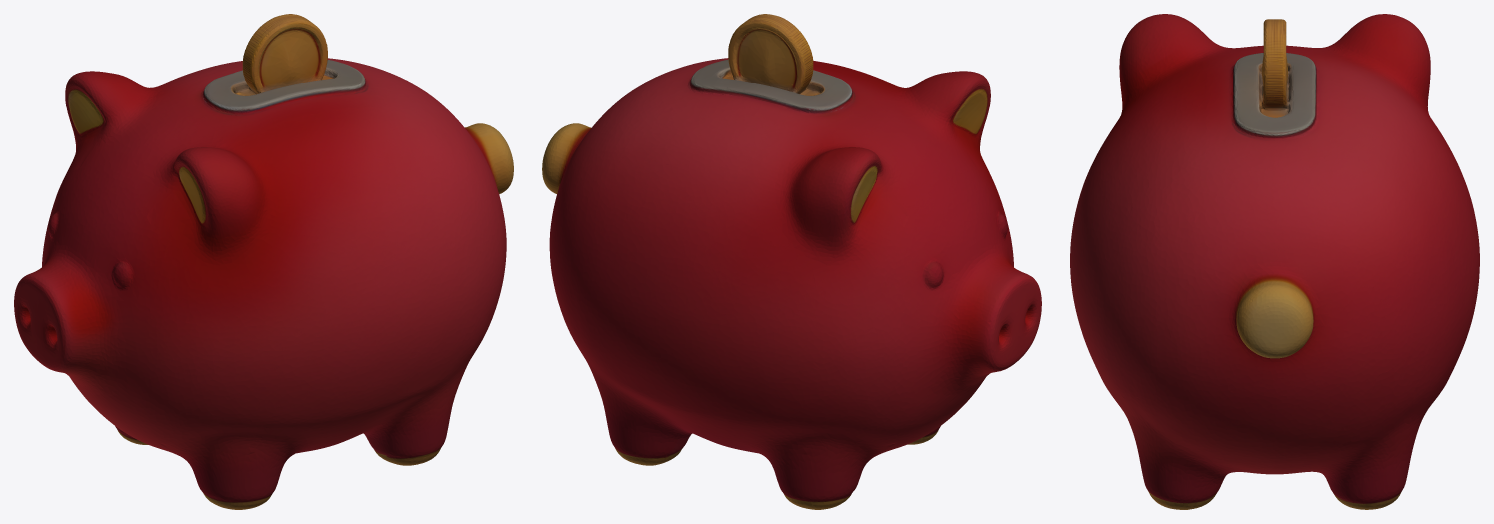
3 renders of one model, left to right at view 1: azimuth 30°, elevation 25°; view 2: azimuth 150°, elevation 25°; view 3: azimuth 270°, elevation 25°, orthographic. The views are drawn at different scales.
Visible parts, largest first — view 1: Node1; view 2: Node1; view 3: Node1.
Part boxes in pixels (left/top/right/bottom): Node1: left=14, top=14, right=513, bottom=509; Node1: left=542, top=14, right=1041, bottom=509; Node1: left=1070, top=14, right=1479, bottom=509.
Size of the model in its own units: 1.15 by 1.01 by 0.8443.
Materials: 1 (1 with a texture image).
